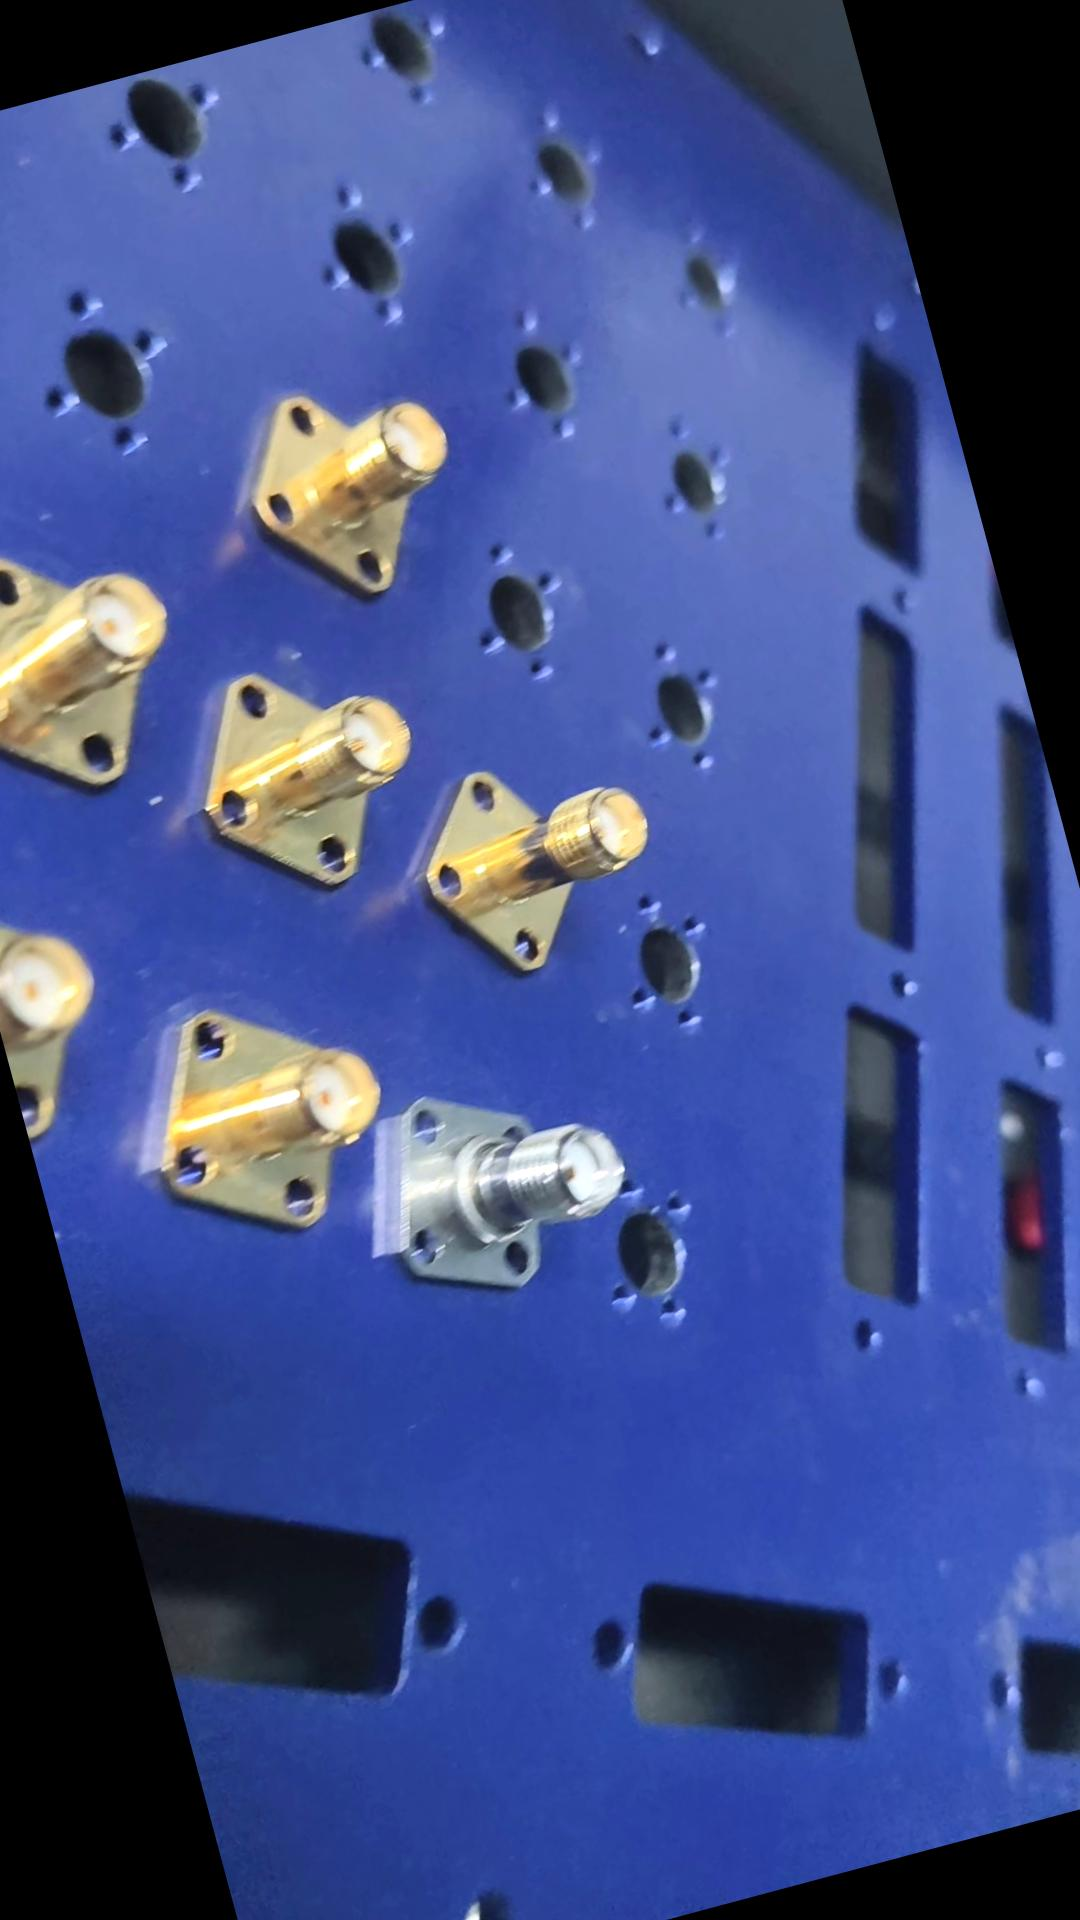SMA: (342, 1025, 650, 1319), (132, 965, 422, 1274), (397, 698, 675, 996), (222, 336, 487, 622), (179, 634, 444, 914)
